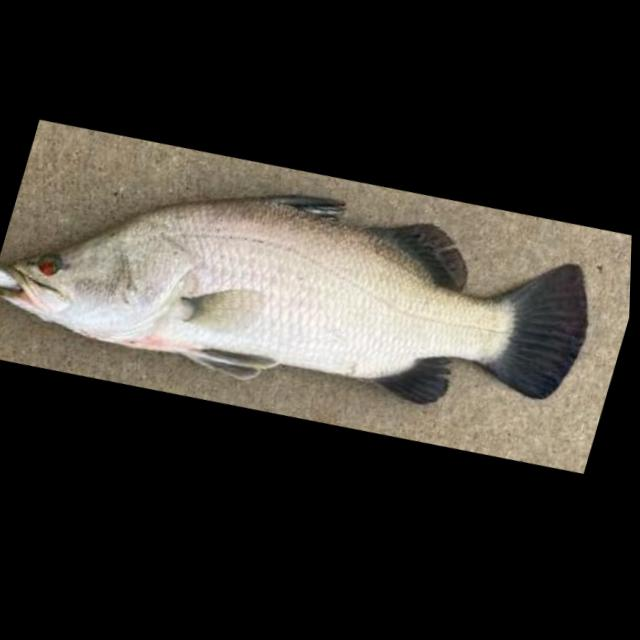Seabass: (0, 95, 615, 484)
